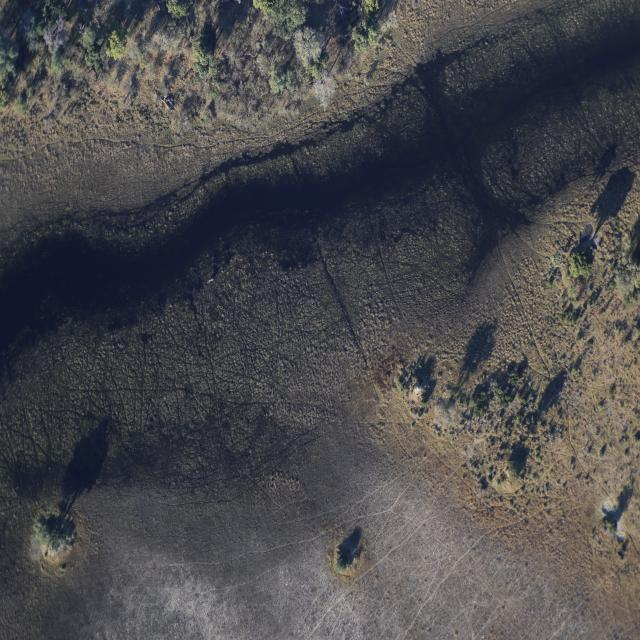elephant: (208, 278, 214, 283)
